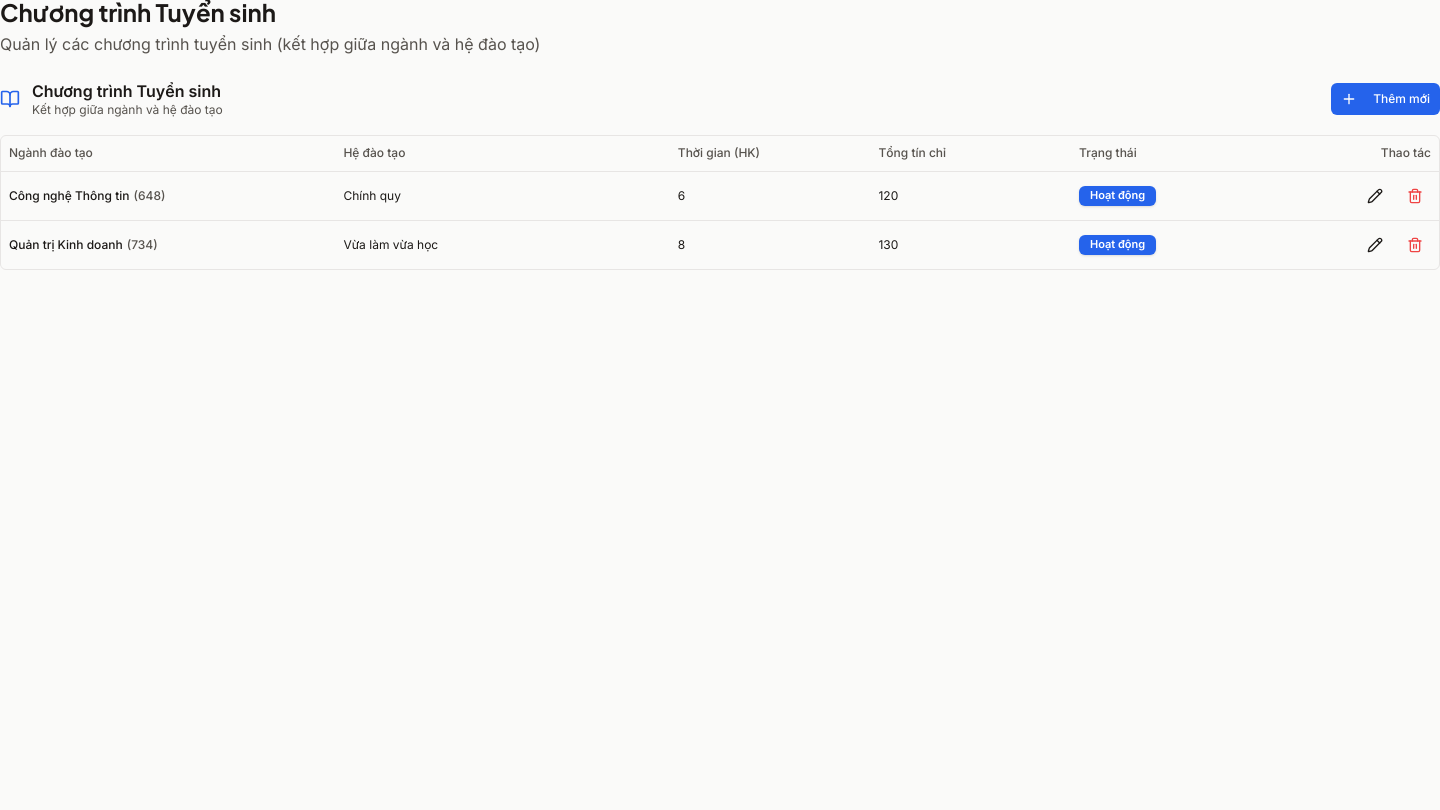
ProgramOfferingPanel › should open edit dialog and populate data correctly
# Edit Row 1
Click the button named "Chỉnh sửa" in the row of "Công nghệ Thông tin": point(1375, 196) [1359,180,1391,212]
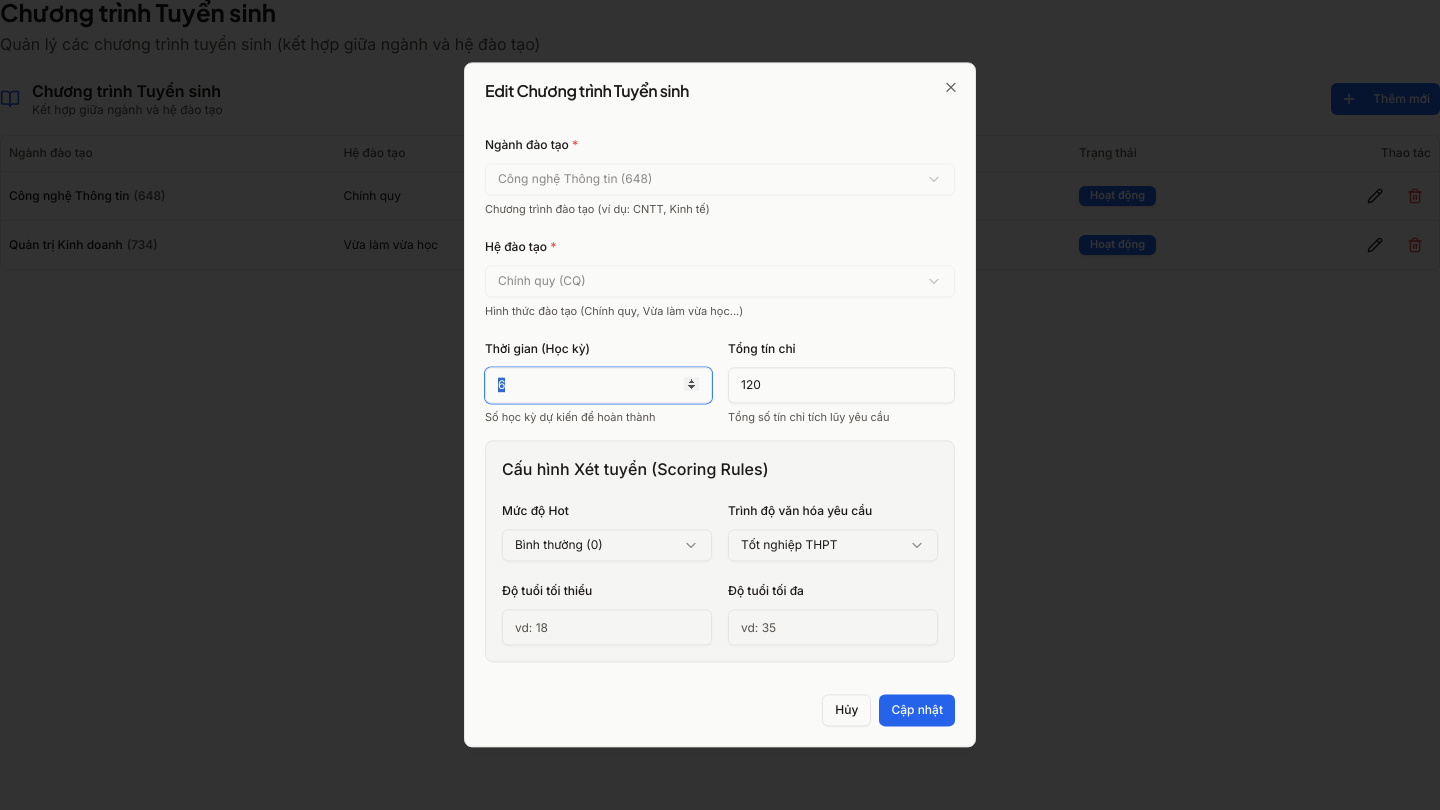
Check: the dialog is shown, box [464,62,976,748]
Check: the number field labelled "Thời gian (Học kỳ)" holds "6", box [485,367,712,403]
Check: the number field labelled "Tổng tín chỉ" holds "120", box [728,367,955,403]
